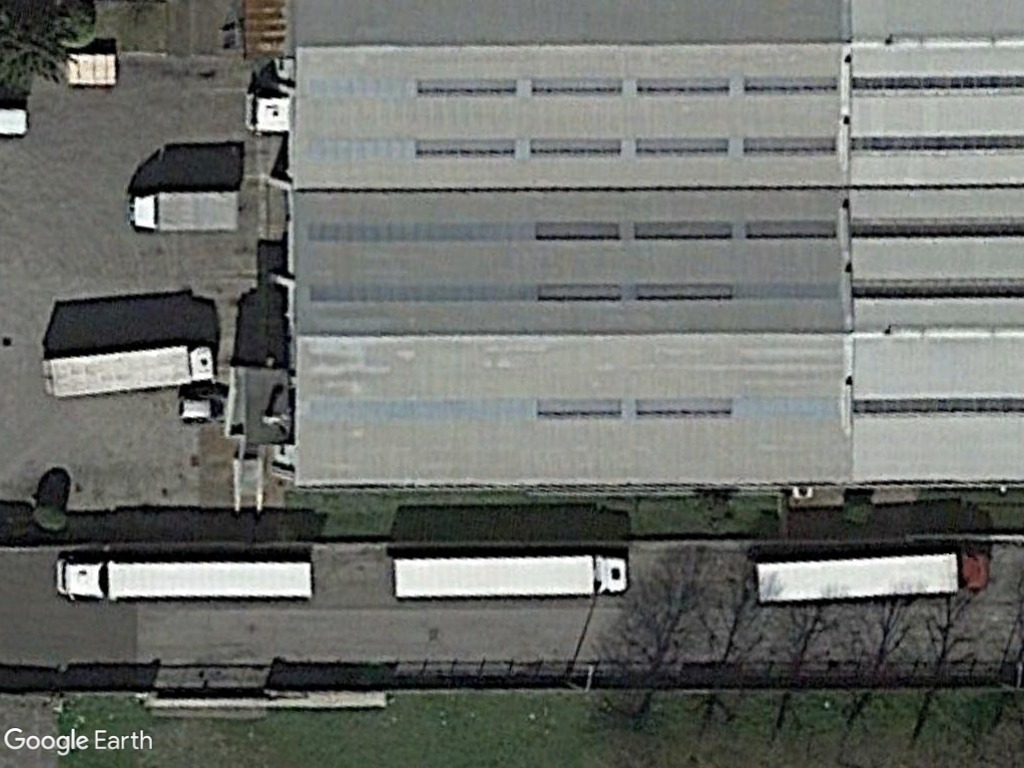longvehicle: (746, 542, 998, 607), (50, 548, 325, 607), (387, 549, 635, 602)
truck: (37, 342, 220, 400), (122, 185, 250, 237)
